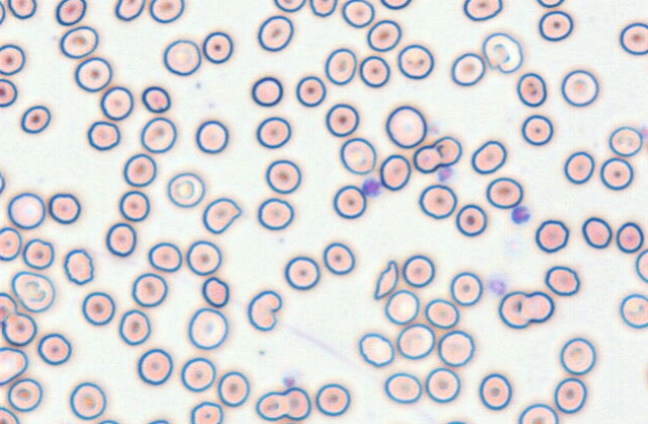PLT: (510, 204, 533, 225), (361, 178, 381, 197), (490, 277, 507, 296), (282, 373, 298, 389), (438, 166, 455, 181)
RBC: (11, 270, 54, 312), (385, 105, 427, 148), (482, 32, 523, 73), (188, 307, 228, 349), (561, 69, 599, 107), (69, 381, 106, 420), (7, 192, 45, 229), (559, 337, 596, 375), (163, 39, 201, 76), (396, 323, 435, 359), (418, 183, 457, 219), (437, 330, 474, 367), (339, 137, 376, 174), (74, 56, 112, 92), (166, 172, 205, 207), (137, 348, 173, 385), (140, 116, 176, 153), (257, 15, 293, 51), (131, 272, 168, 307), (397, 44, 434, 79), (478, 372, 512, 410), (59, 25, 98, 58), (384, 289, 419, 325), (358, 332, 394, 367), (425, 367, 460, 403), (180, 357, 216, 392), (186, 240, 222, 275), (284, 255, 320, 290), (265, 159, 301, 194), (553, 377, 587, 414), (324, 47, 357, 85), (2, 311, 37, 346), (471, 139, 506, 174), (257, 197, 294, 230), (7, 378, 42, 412), (325, 102, 359, 137), (332, 184, 366, 219), (450, 52, 485, 86), (118, 309, 151, 345), (498, 291, 530, 328), (379, 154, 411, 191), (217, 370, 249, 407), (384, 372, 422, 403), (485, 177, 523, 208), (81, 291, 115, 325), (535, 219, 569, 253), (195, 119, 229, 153), (315, 383, 350, 416), (100, 85, 133, 120), (256, 116, 291, 149), (63, 248, 94, 285), (37, 332, 71, 365), (123, 153, 156, 187), (322, 241, 355, 275), (450, 271, 482, 306), (366, 19, 401, 51), (544, 265, 580, 296), (0, 346, 28, 385), (521, 290, 554, 323), (600, 157, 633, 190), (563, 150, 595, 184), (424, 298, 459, 329), (105, 222, 136, 257), (608, 125, 643, 156), (538, 10, 573, 41), (402, 254, 434, 287), (455, 203, 487, 236), (48, 192, 81, 224), (148, 241, 182, 272), (202, 30, 233, 64), (516, 72, 546, 107), (581, 216, 612, 249), (87, 120, 120, 151), (255, 391, 289, 421), (619, 293, 648, 328), (22, 238, 54, 269), (118, 190, 150, 221), (295, 75, 326, 107), (359, 55, 390, 87), (251, 76, 283, 107), (521, 114, 553, 145), (432, 135, 462, 166), (615, 221, 644, 253), (283, 387, 311, 420), (341, 0, 374, 28), (619, 22, 647, 55), (20, 104, 51, 133), (412, 145, 442, 173), (141, 85, 171, 113), (463, 0, 502, 21), (149, 0, 184, 23), (518, 403, 558, 423), (0, 43, 25, 75), (55, 0, 86, 25), (0, 226, 22, 261), (190, 401, 223, 423), (114, 0, 145, 21), (7, 0, 36, 19), (0, 291, 17, 322), (0, 78, 17, 107), (309, 0, 337, 17), (635, 248, 648, 283), (273, 0, 305, 12), (0, 406, 19, 423), (380, 0, 411, 9), (535, 0, 565, 8), (641, 126, 648, 159), (643, 359, 648, 390), (0, 0, 6, 25), (146, 418, 170, 424), (0, 170, 5, 195), (96, 419, 119, 424), (442, 420, 468, 424)
Schistocyte: (245, 289, 281, 333), (202, 198, 242, 234), (373, 260, 398, 301), (203, 277, 229, 306)
